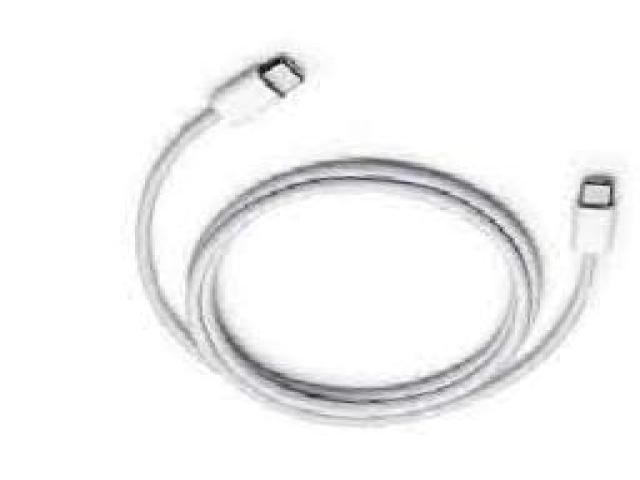wire: (132, 51, 622, 426)
